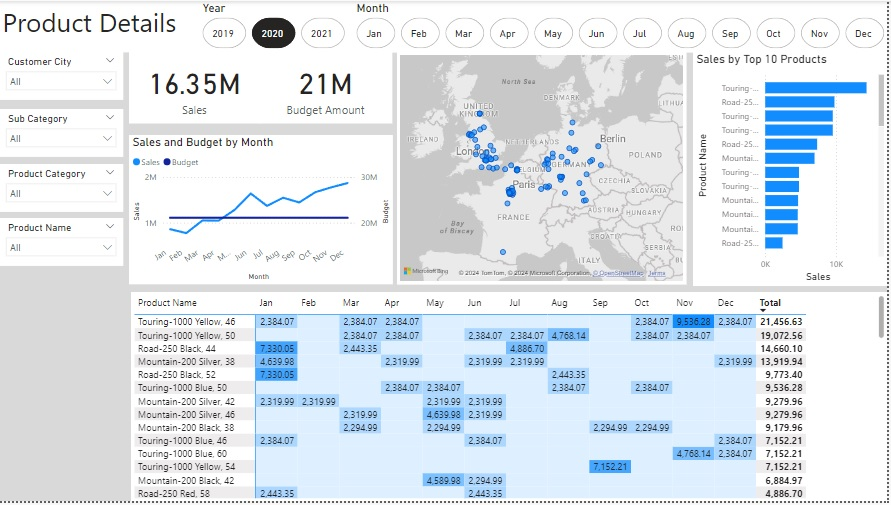

Layout of this report page (visuals, bound fields, positions):
{"tool":"powerbi","page":{"name":"Product Details","canvas":[1280,720],"ordinal":2},"visuals":[{"type":"textbox","box":[0,0,1280,73.8],"z":0},{"type":"slicer","fields":{"Values":["DIM_Customers.Customer City"]},"box":[0,74,179,69],"z":1000},{"type":"slicer","fields":{"Values":["DIM_Products.Sub Category"]},"box":[0,155,179,69],"z":2000},{"type":"slicer","fields":{"Values":["DIM_Products.Product Category"]},"box":[0,234,179,69],"z":3000},{"type":"slicer","fields":{"Values":["DIM_Products.Product Name"]},"box":[0,313,179,69],"z":4000},{"type":"advancedSlicerVisual","fields":{"Values":["DIM_Calendar.Year"]},"box":[288.3,0,215,73.3],"z":5000},{"type":"advancedSlicerVisual","title":"Month","fields":{"Values":["DIM_Calendar.MonthShort"]},"box":[510,0,770,73.8],"z":6000},{"type":"map","fields":{"Category":["DIM_Customers.Customer City"]},"box":[573.3,73.3,416.7,335],"z":7000},{"type":"lineChart","title":"Sales and Budget by Month","fields":{"Category":["DIM_Calendar.MonthShort"],"Y":["Key_Measures.Sales"],"Y2":["Key_Measures.Budget Amount"]},"box":[186.7,193.3,380,215],"z":8000},{"type":"barChart","title":"Sales by Top 10 Products","fields":{"Y":["Key_Measures.Sales"],"Category":["DIM_Products.Product Name"]},"box":[1000,73.3,280,336.7],"z":9000},{"type":"card","fields":{"Values":["Key_Measures.Sales"]},"box":[186.7,73.3,188.3,103.3],"z":10000},{"type":"card","fields":{"Values":["Key_Measures.Budget Amount"]},"box":[375,73.3,191.7,103.3],"z":11000},{"type":"pivotTable","fields":{"Columns":["DIM_Calendar.MonthShort"],"Rows":["DIM_Products.Product Name"],"Values":["Key_Measures.Sales"]},"box":[190,418.3,1090,301.7],"z":13000}]}

Visuals, with their boxes in screenshot pixels (x1, y1, x2, y2), scaled from the page's 1280x720 canvas onto the 891x505 screenshot:
textbox: <box>0,0,890,52</box>
slicer - DIM_Customers.Customer City: <box>0,52,125,100</box>
slicer - DIM_Products.Sub Category: <box>0,109,125,157</box>
slicer - DIM_Products.Product Category: <box>0,164,125,213</box>
slicer - DIM_Products.Product Name: <box>0,220,125,268</box>
advancedSlicerVisual - DIM_Calendar.Year: <box>201,0,350,51</box>
"Month" advancedSlicerVisual: <box>355,0,890,52</box>
map - DIM_Customers.Customer City: <box>399,51,689,286</box>
"Sales and Budget by Month" lineChart: <box>130,136,394,286</box>
"Sales by Top 10 Products" barChart: <box>696,51,890,288</box>
card - Key_Measures.Sales: <box>130,51,261,124</box>
card - Key_Measures.Budget Amount: <box>261,51,394,124</box>
pivotTable - DIM_Calendar.MonthShort x DIM_Products.Product Name: <box>132,293,890,504</box>
